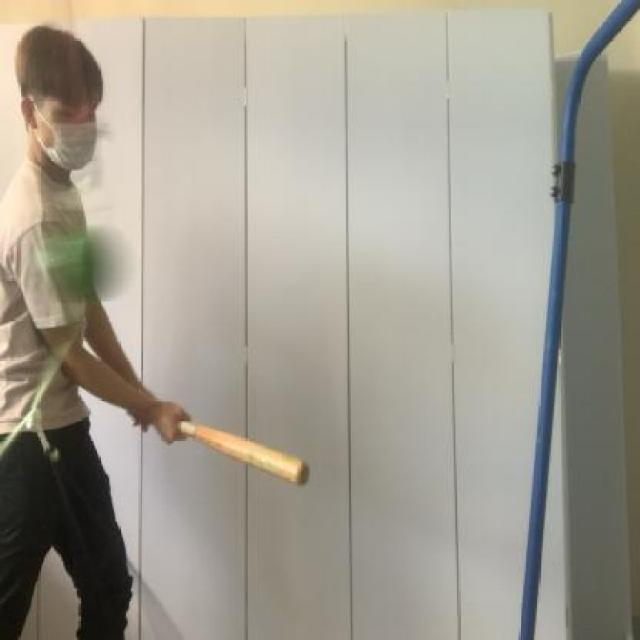baseball: (34, 218, 132, 300)
